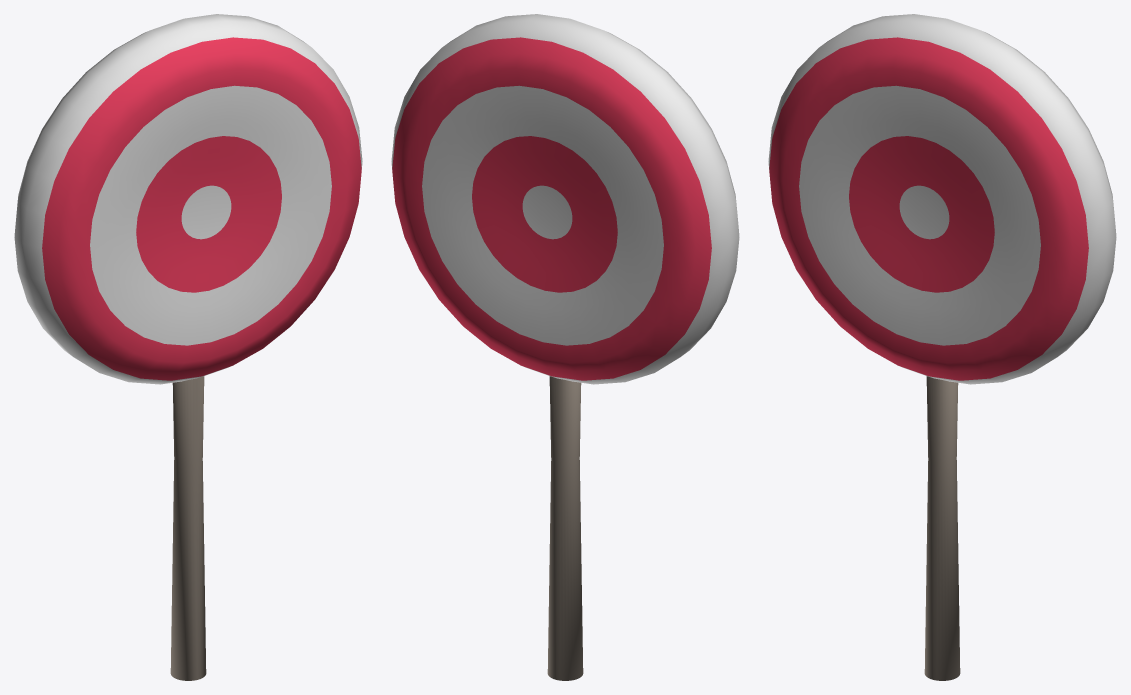
File: Lollipop.fbx
3 renders of one model, left to right at view 1: azimuth 30°, elevation 25°; view 2: azimuth 150°, elevation 25°; view 3: azimuth 330°, elevation 25°, orthographic.
Parts seen in each view (by area): view 1: Cylinder.005; view 2: Cylinder.005; view 3: Cylinder.005.
Boxes of the visible parts, box(x1,y1,x2,y2) form: Cylinder.005: box(14, 14, 362, 680); Cylinder.005: box(391, 14, 739, 680); Cylinder.005: box(768, 14, 1116, 680).
Size of the model in its own units: 130 by 239 by 29.84.
